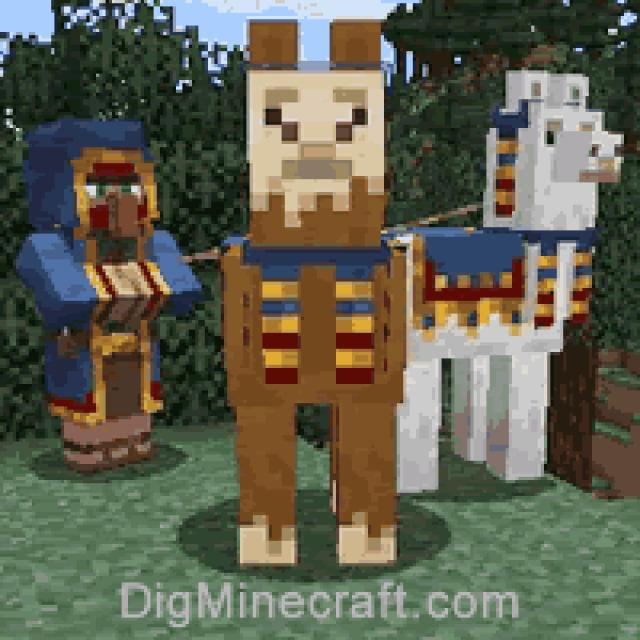Trader Lama: (218, 16, 410, 566), (387, 69, 627, 498)
